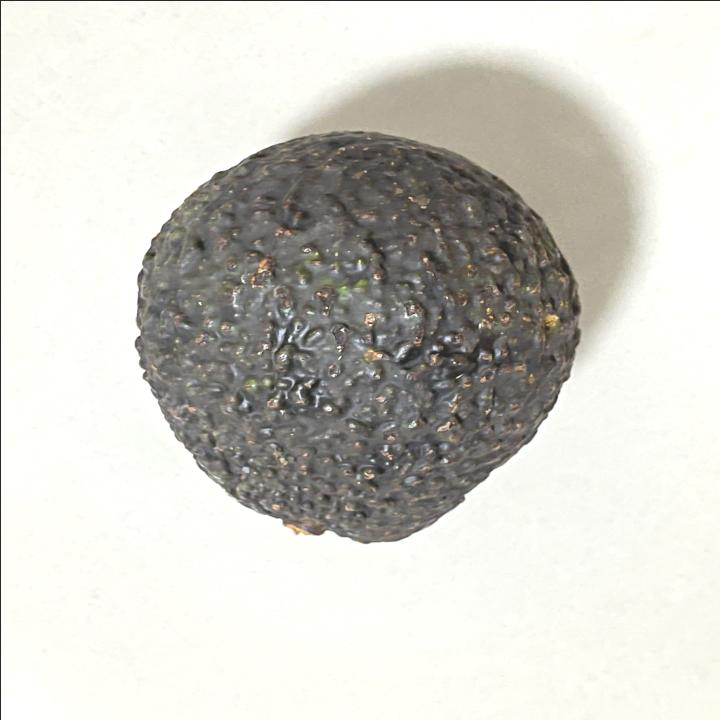Level1: (115, 116, 596, 565)
